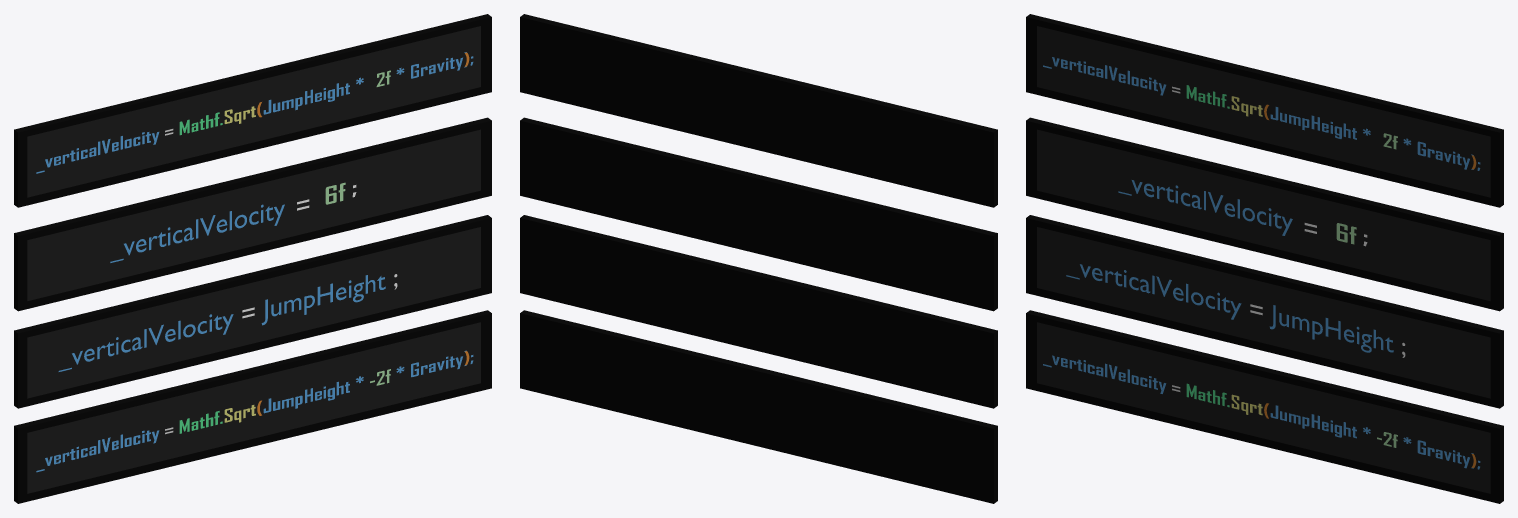
The model's file is IkinciSoru.fbx.
3 views of the same model, side by side, from view 1: azimuth 30°, elevation 25°; view 2: azimuth 150°, elevation 25°; view 3: azimuth 330°, elevation 25° (orthographic).
Parts seen in each view (by area): view 1: Panel.002, Panel.001, Panel.003, Panel, Text, Text.002, Text.005, Text.004; view 2: Panel, Panel.003, Panel.001, Panel.002; view 3: Panel.002, Panel.001, Panel.003, Panel, Text, Text.002, Text.005, Text.004.
Boxes of the visible parts, x1,y1,x2,y2 form: Panel.002: [14, 117, 491, 311]; Panel.001: [14, 215, 491, 408]; Panel.003: [14, 14, 491, 207]; Panel: [14, 310, 491, 503]; Text: [36, 350, 473, 472]; Text.002: [36, 52, 473, 173]; Text.005: [58, 274, 397, 371]; Text.004: [110, 182, 356, 262]; Panel: [520, 310, 997, 503]; Panel.003: [520, 14, 997, 207]; Panel.001: [520, 215, 997, 408]; Panel.002: [520, 117, 997, 311]; Panel.002: [1026, 117, 1503, 311]; Panel.001: [1026, 215, 1503, 408]; Panel.003: [1026, 14, 1503, 207]; Panel: [1026, 310, 1503, 503]; Text: [1043, 355, 1480, 469]; Text.002: [1043, 57, 1480, 170]; Text.005: [1066, 264, 1405, 357]; Text.004: [1118, 180, 1367, 246].
Bounding box in the file's own units: 396 × 297 × 6.66.
